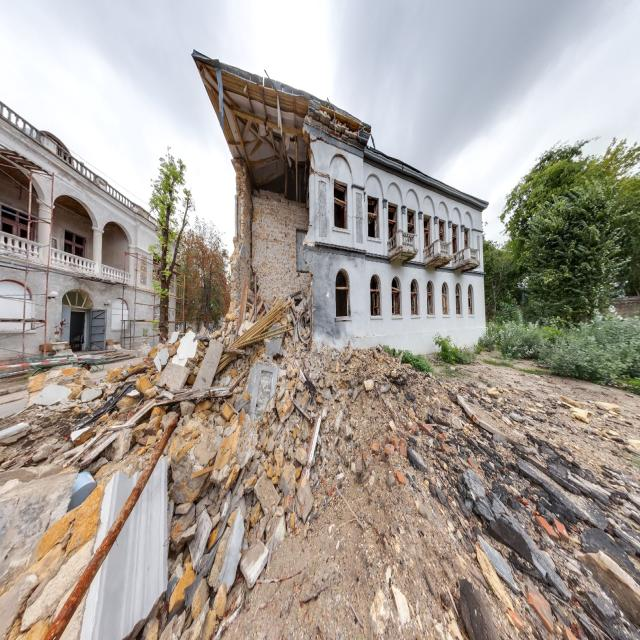broken_window: (332, 179, 348, 231), (335, 268, 350, 320), (369, 274, 382, 317), (367, 196, 379, 239), (387, 202, 397, 247), (391, 276, 401, 318), (410, 278, 419, 317), (426, 280, 434, 316), (442, 282, 449, 316), (468, 284, 473, 316)
building: (191, 48, 489, 357), (0, 99, 181, 359)
